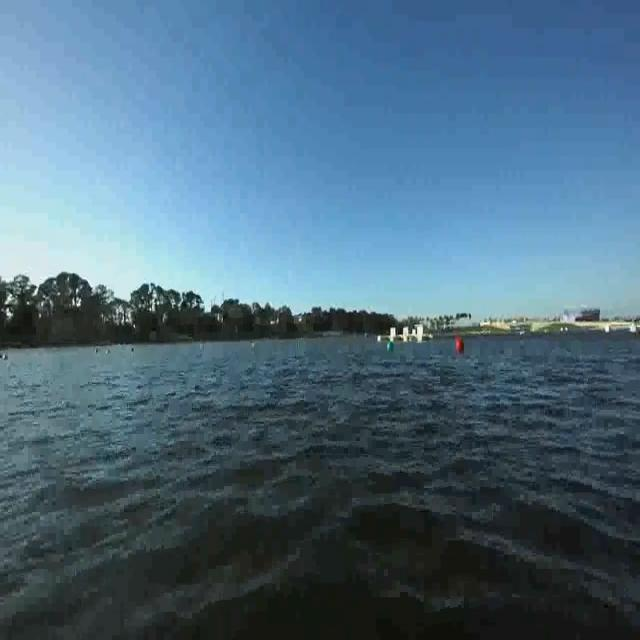green-buoy: (386, 339, 393, 352)
red-buoy: (456, 338, 464, 355)
